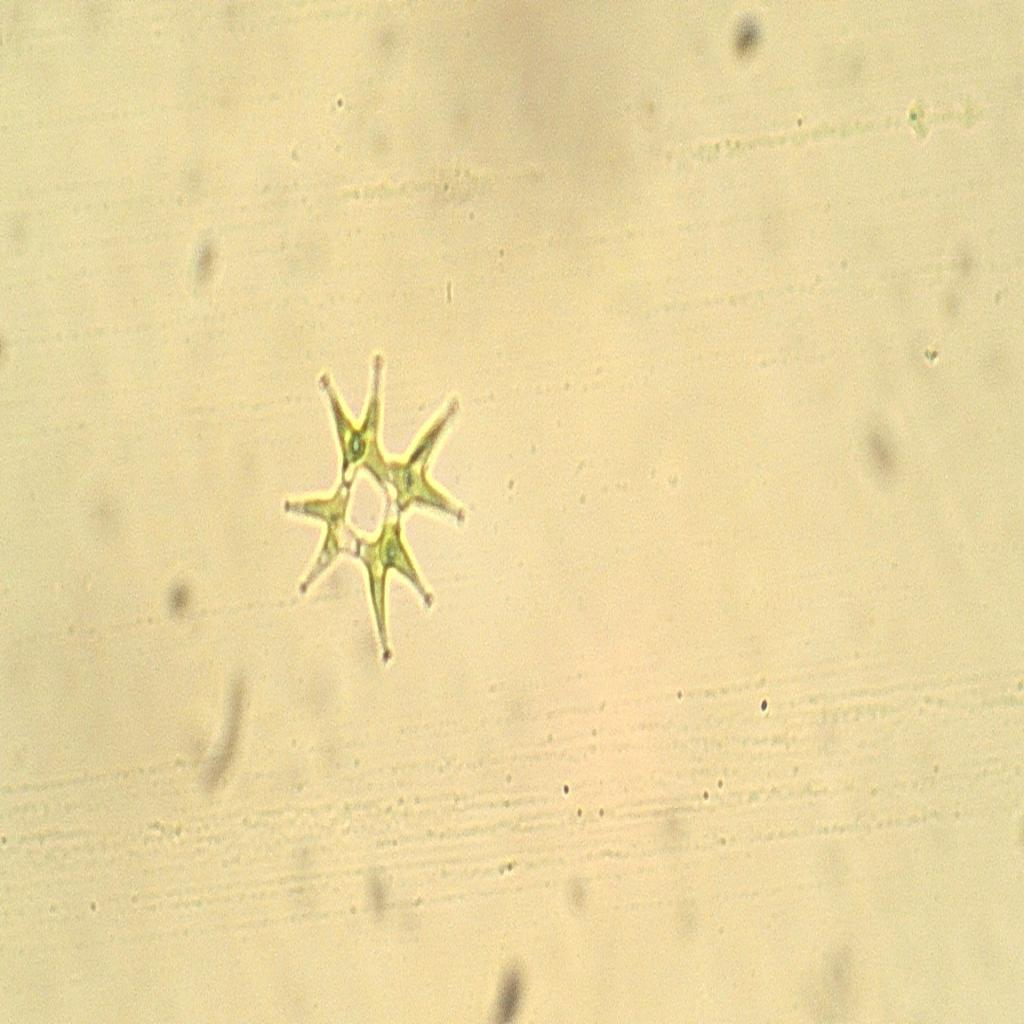Pediastrum_CF: (262, 304, 479, 690)
